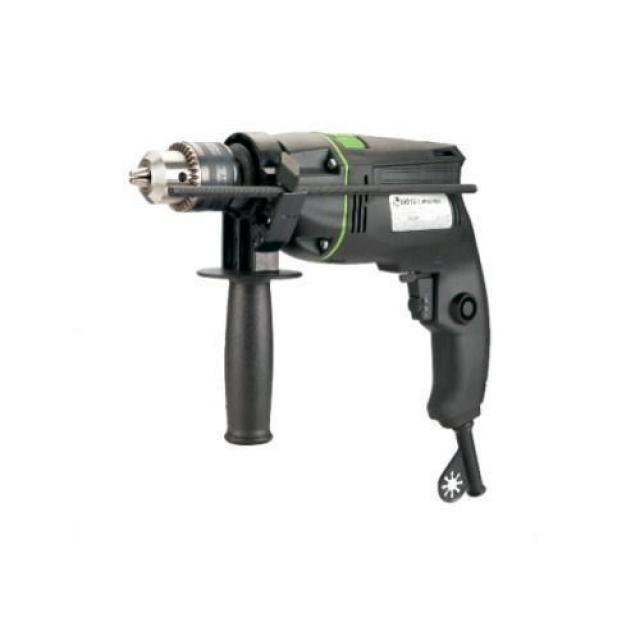drill: (125, 130, 492, 505)
